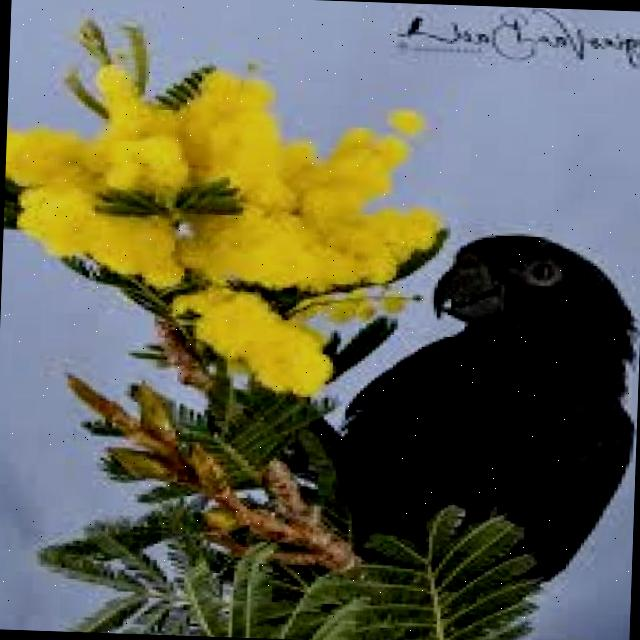Nuri Hitam: (299, 214, 640, 640)
